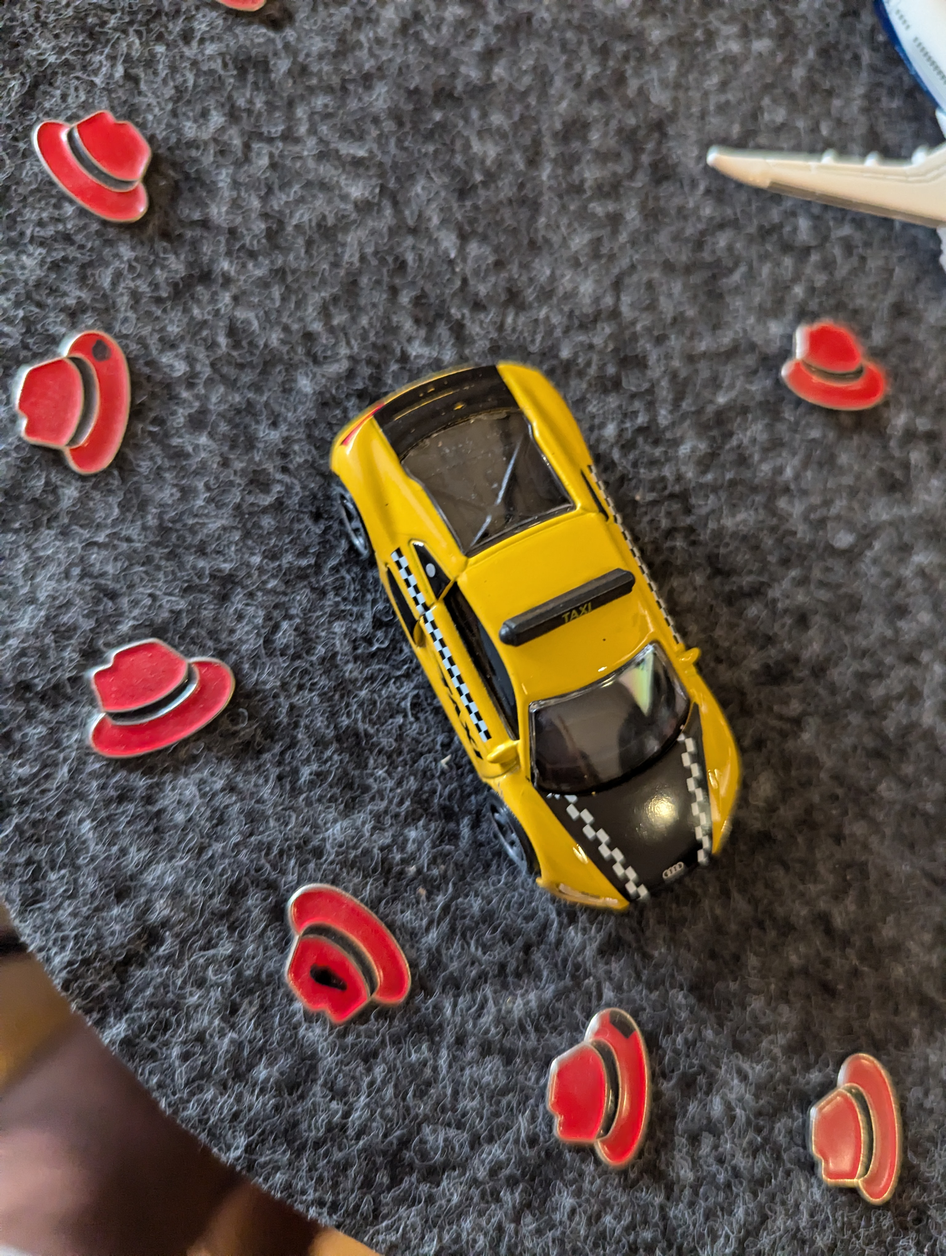Car: (255, 319, 837, 945)
Red-Hat: (227, 860, 449, 1044), (520, 972, 678, 1180), (54, 617, 249, 783), (0, 297, 155, 503), (787, 1037, 918, 1215), (10, 92, 161, 239), (756, 308, 922, 419)
Scratch: (301, 948, 380, 1009), (70, 317, 137, 381), (589, 985, 652, 1049)
